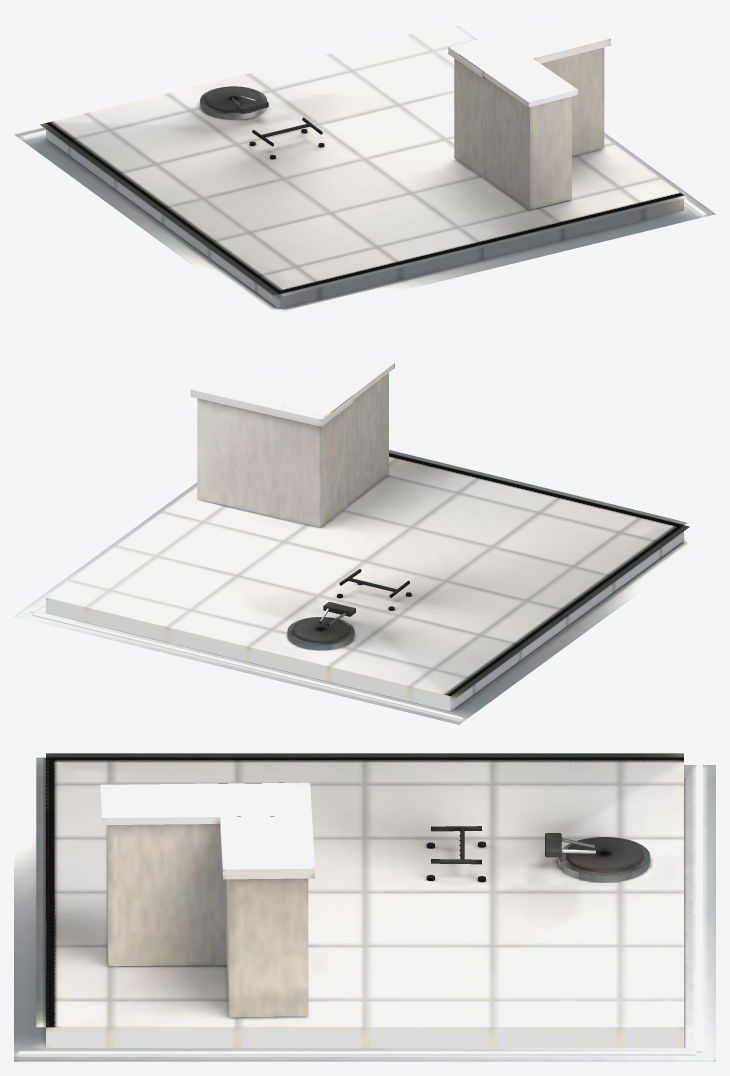
Rendered from floor_counter_opt.glb.
3 renders of one model, top to bottom at view 1: azimuth 30°, elevation 25°; view 2: azimuth 150°, elevation 25°; view 3: azimuth 270°, elevation 25°, orthographic. The views are drawn at different scales.
Visible parts, largest first — view 1: BakedFloorCounter; view 2: BakedFloorCounter; view 3: BakedFloorCounter.
Boxes of the visible parts, x1,y1,x2,y2 form: BakedFloorCounter: (14,14,715,322); BakedFloorCounter: (14,351,715,724); BakedFloorCounter: (14,753,715,1061).
Bounding box in the file's own units: 4.58 × 1.25 × 4.58.
1 material, 1 textured.
